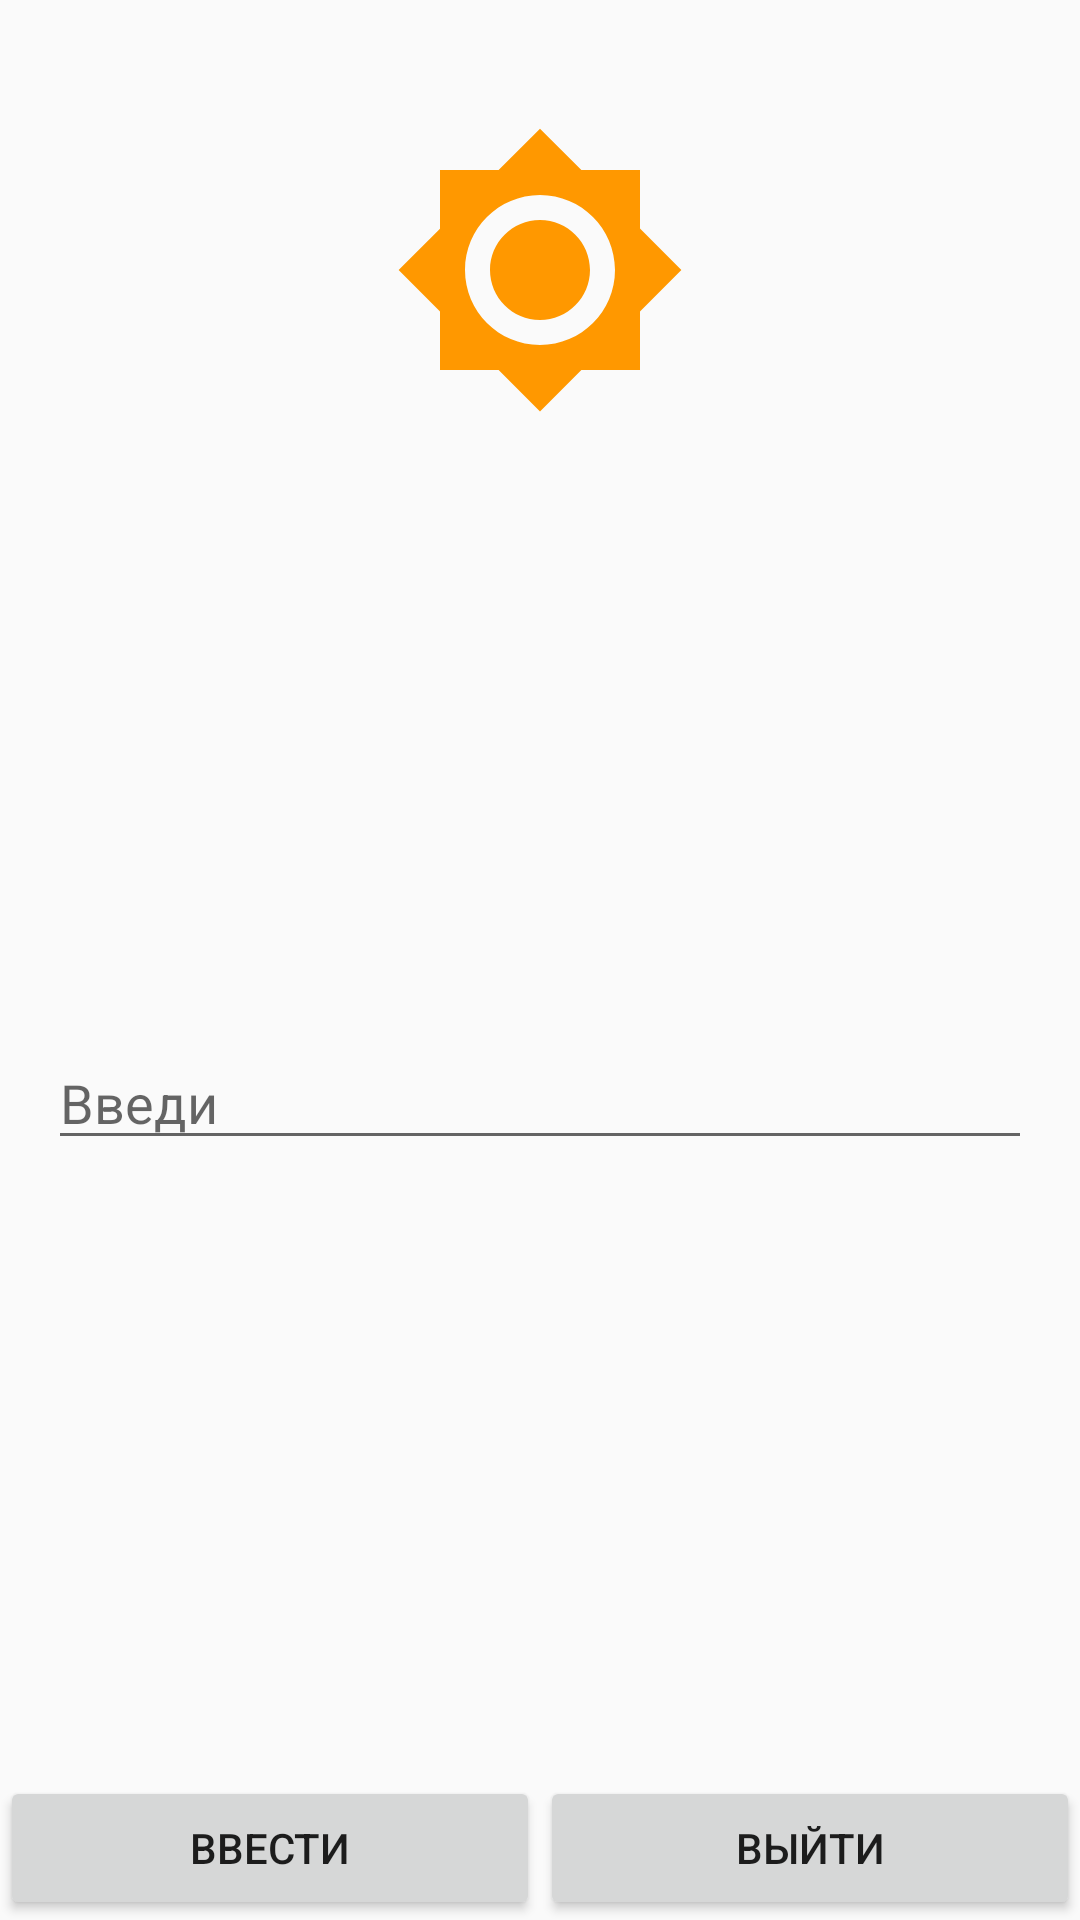

Icon bounding boxes for this 1080*1920 phone screenshot, format (x1, y1, x2, y2):
brightness: (399, 129, 681, 412)
